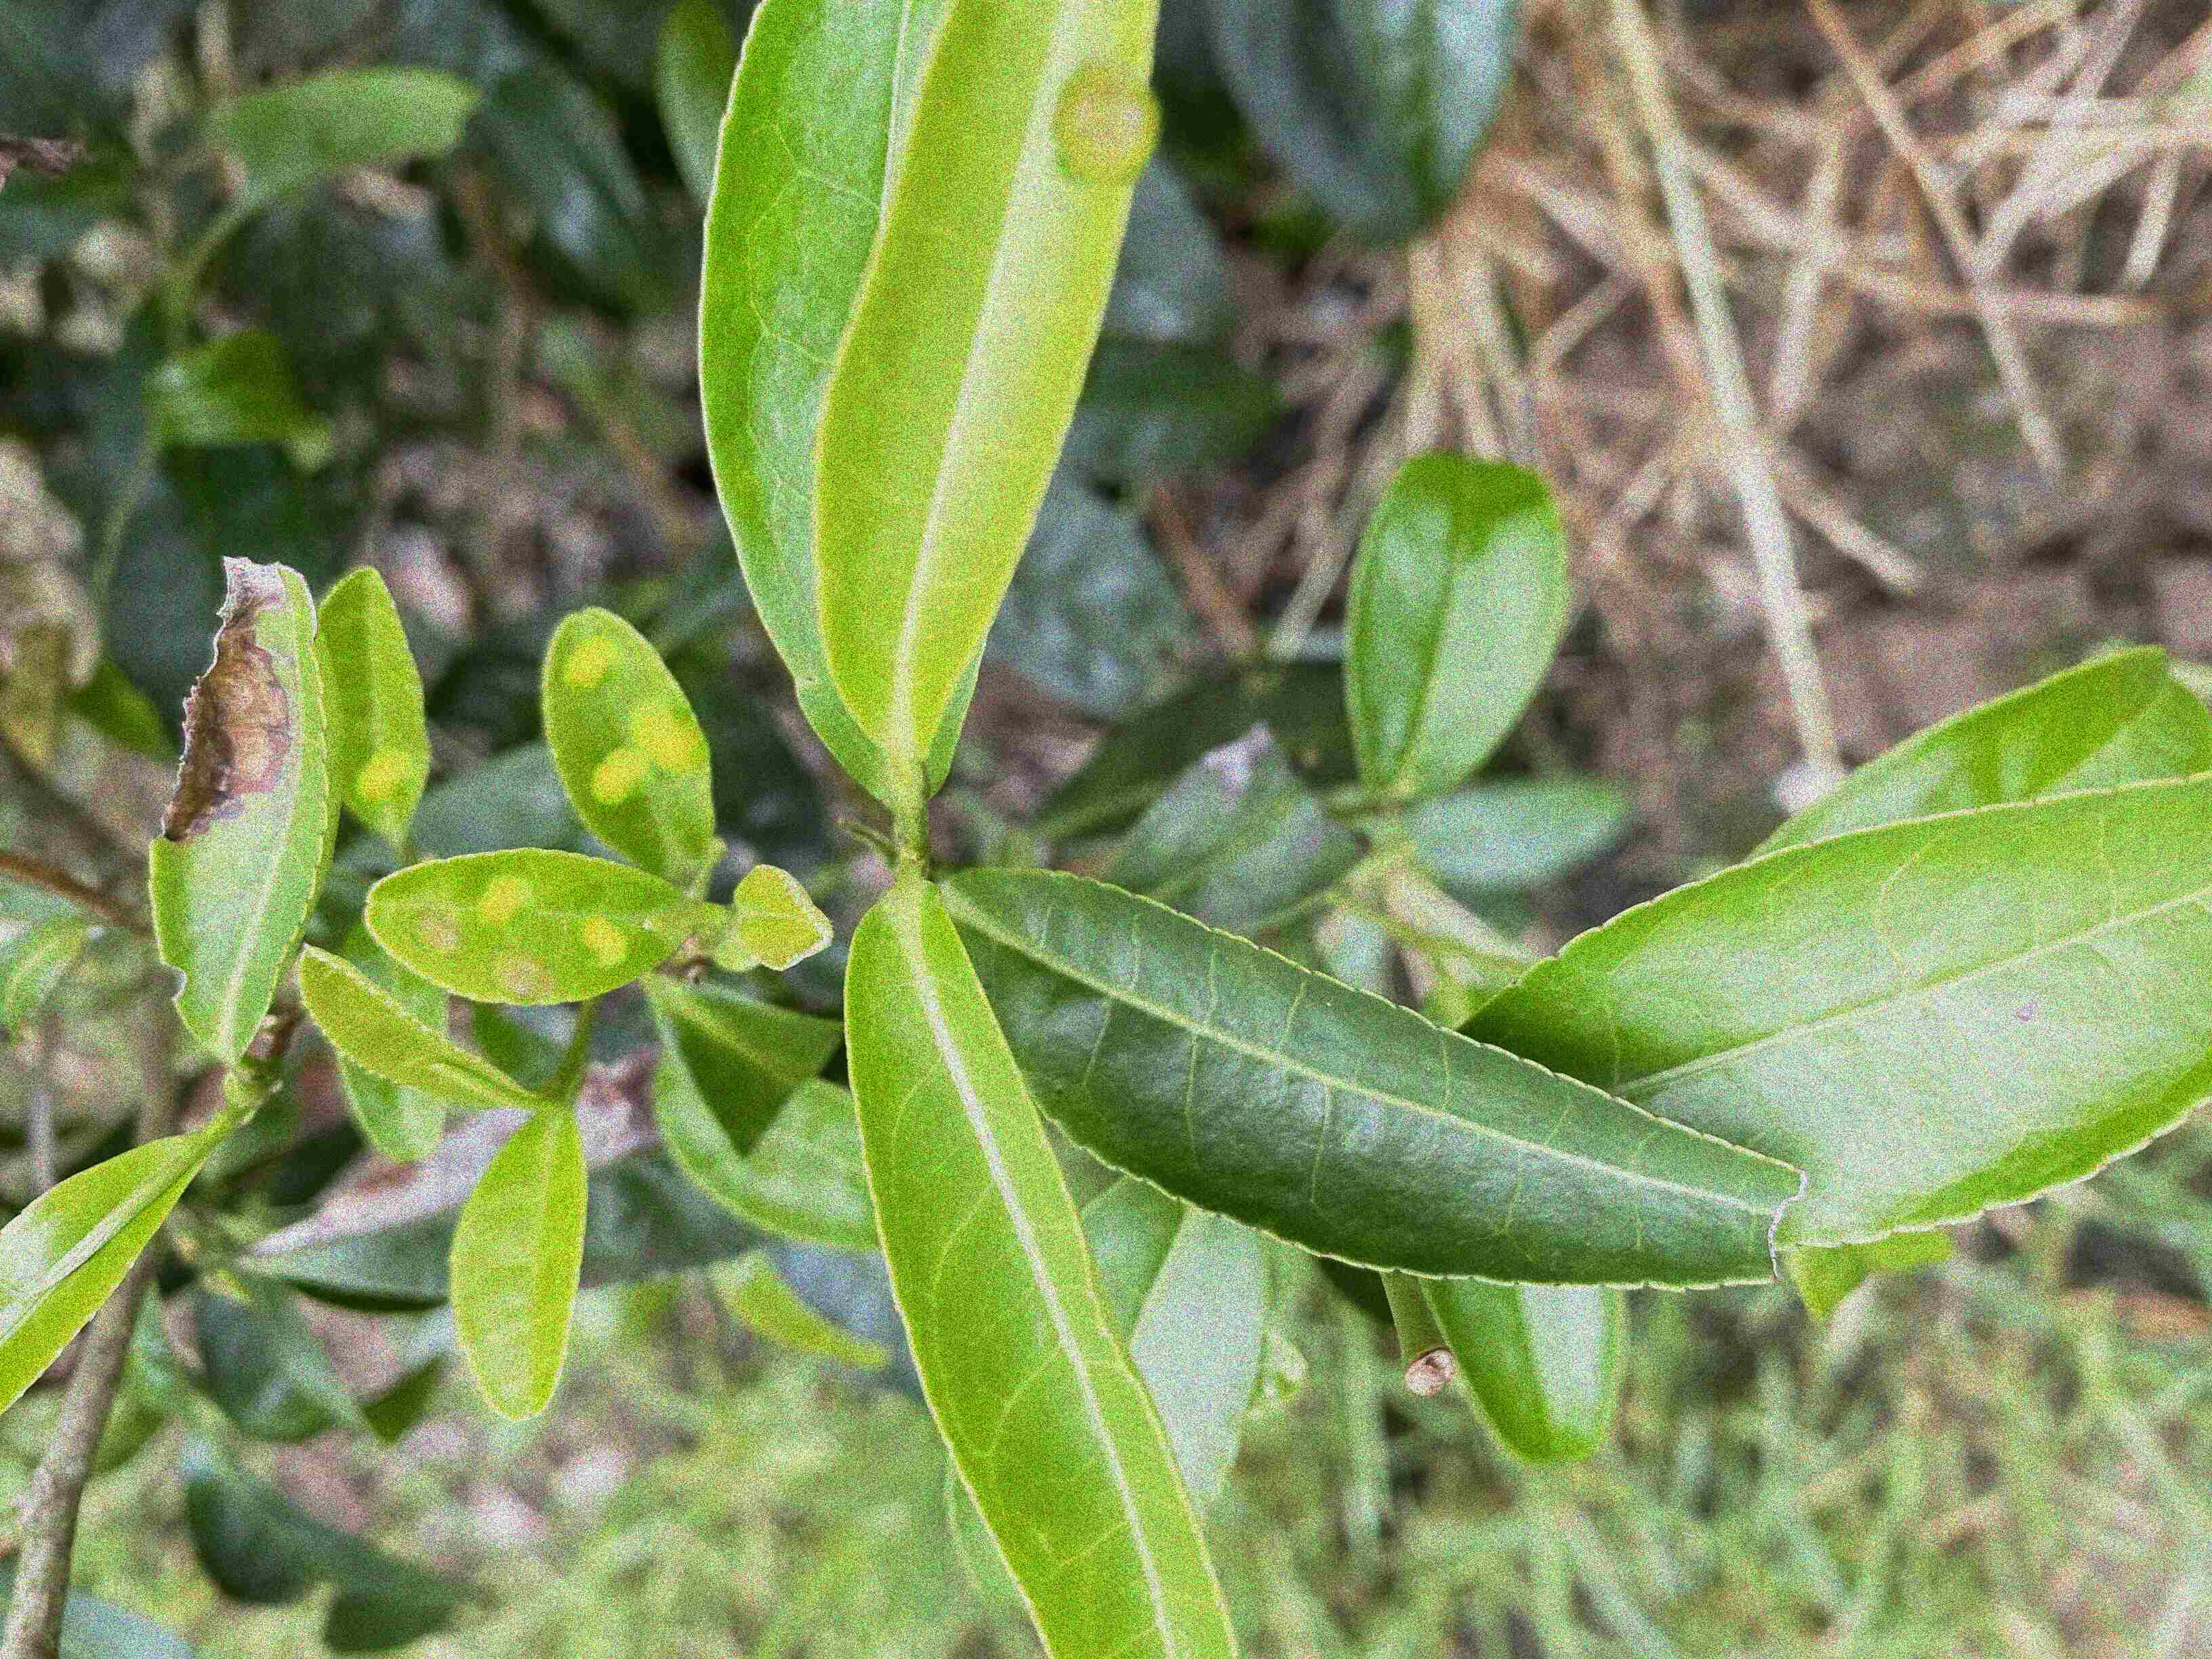chabing_high: (361, 845, 686, 1011), (543, 598, 714, 877)
chabing_low: (820, 7, 1163, 753), (322, 561, 430, 843)
chihuo_low: (975, 864, 1813, 1286)
healthy: (845, 877, 1240, 1652), (451, 1108, 590, 1420), (733, 861, 836, 969)
tanju_high: (152, 554, 341, 1068)
